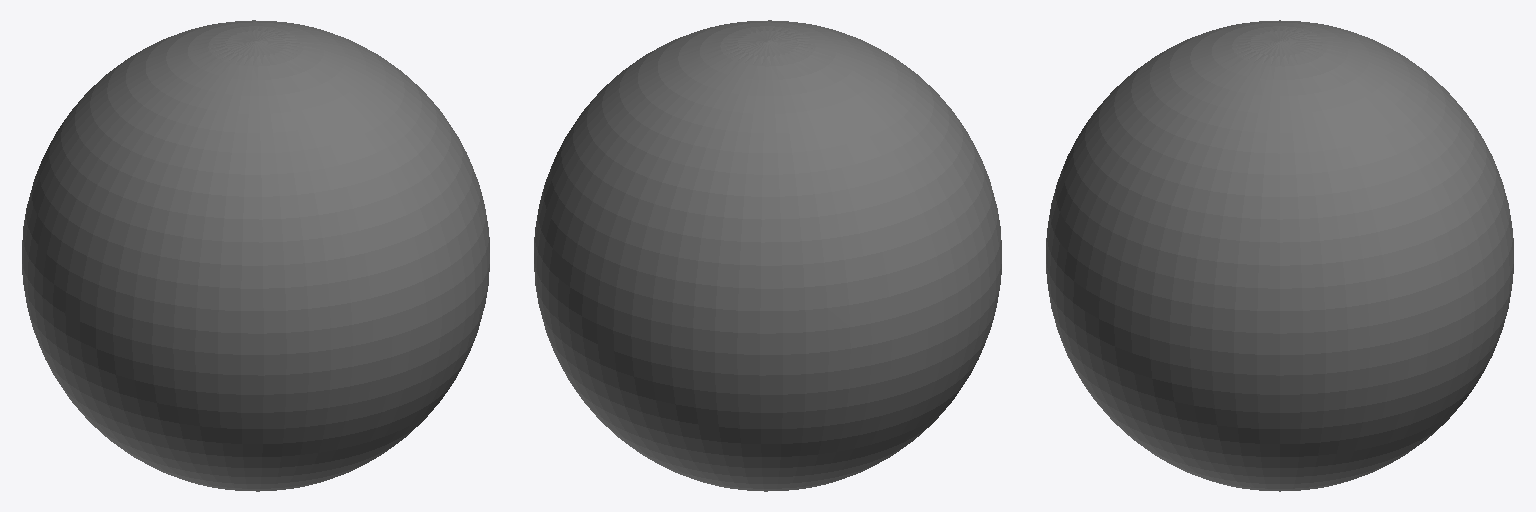
robot.urdf — ball_bounce_x_1-0:
<?xml version="1.0"?>
<robot name="ball_bounce_x_1-0">
  <link name="base">
    <visual>
      <geometry>
        <mesh filename="ball_bounce_x_1-0.obj" scale="1 1 1"/>
      </geometry>
      <material name="gray">
        <color rgba="0.5 0.5 0.5 1.0"/>
      </material>
    </visual>
    <collision>
      <geometry>
        <mesh filename="ball_bounce_x_1-0.obj" scale="1 1 1"/>
      </geometry>
    </collision>
    <inertial>
      <mass value="1.000"/>
      <inertia
          ixx="0.017517" ixy="0.000000" ixz="0.000000"
          iyy="0.017517" iyz="0.000000"
          izz="0.017334"/>
      <origin xyz="0.000000 -0.997553 0.165882" rpy="0 0 0"/>
    </inertial>
  </link>
</robot>

--- Facts derived from the render (not from the file) ---
Views: 3 orthographic renders of the robot side by side, from view 1: azimuth 30°, elevation 25°; view 2: azimuth 150°, elevation 25°; view 3: azimuth 270°, elevation 25°.
Robot: ball_bounce_x_1-0 — 1 links, 0 joints (none); root link base; default pose: every joint at zero.
Links seen in each view (by area): view 1: base; view 2: base; view 3: base.
Boxes of the visible links, x1,y1,x2,y2 form: base: [22, 20, 489, 491]; base: [534, 20, 1001, 491]; base: [1046, 20, 1513, 491].
Bounding box of the posed robot: 0.3225 × 0.3225 × 0.3259 m (x, y, z).
Meshes: 1 distinct files referenced, 1 mesh visuals loaded (1 OBJ).
